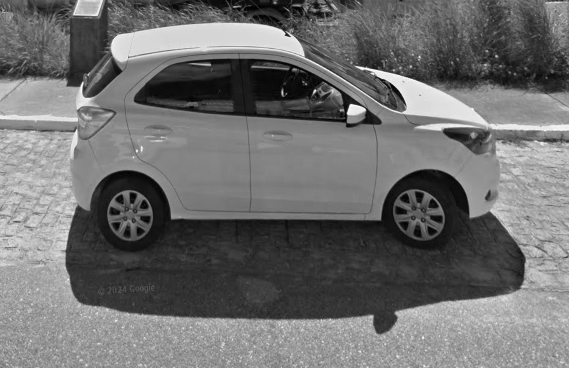car: (64, 18, 503, 254)
